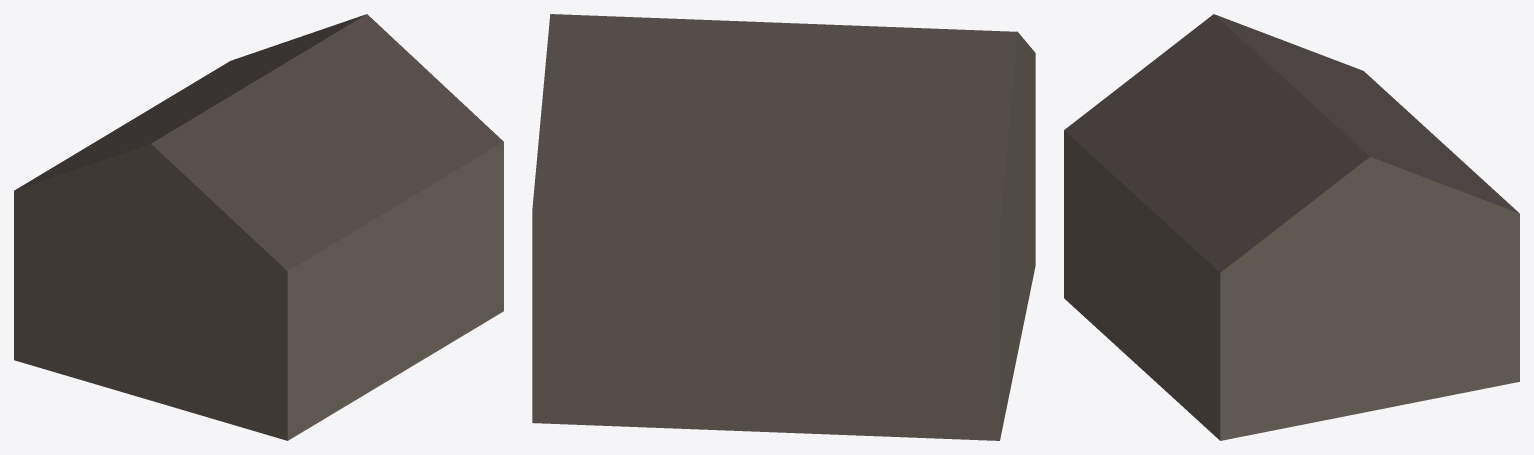
The picture shows the model from 3 angles, left to right: view 1: azimuth 30°, elevation 25°; view 2: azimuth 150°, elevation 25°; view 3: azimuth 270°, elevation 25°; orthographic projection. The views are drawn at different scales.
Parts seen in each view (by area): view 1: HP-w859488724; view 2: HP-w859488724; view 3: HP-w859488724.
Boxes of the visible parts, box(x1,y1,x2,y2) form: HP-w859488724: box(14, 14, 503, 440); HP-w859488724: box(532, 14, 1035, 440); HP-w859488724: box(1064, 14, 1519, 440).
Size of the model in its own units: 23.18 by 13.63 by 22.12.
